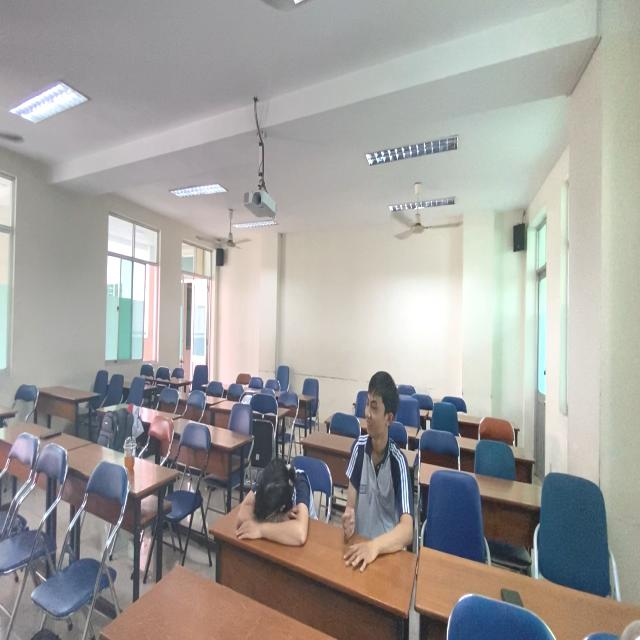sleep: (233, 452, 321, 553)
